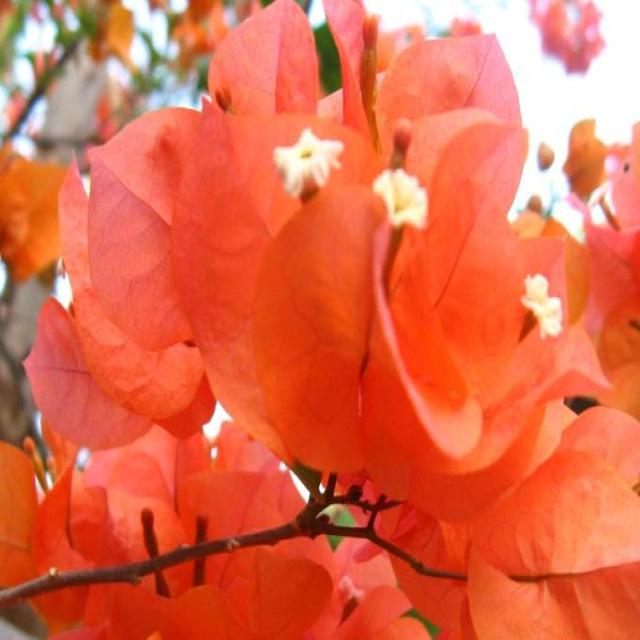bougainvillea: (205, 26, 570, 518), (0, 51, 288, 480)
